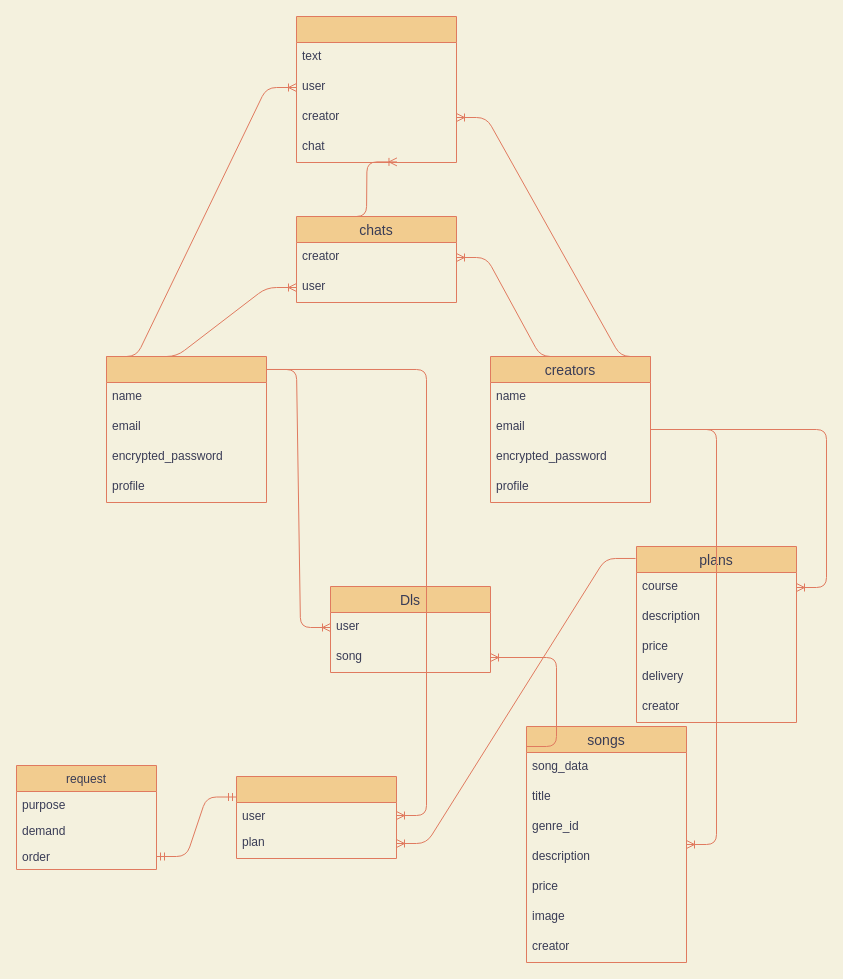
This 843x979 diagram has some shape labels left out. Each missing label, with the box of its shape:
messages: (296, 16, 456, 162)
orders: (236, 776, 396, 858)
users: (106, 356, 266, 502)
